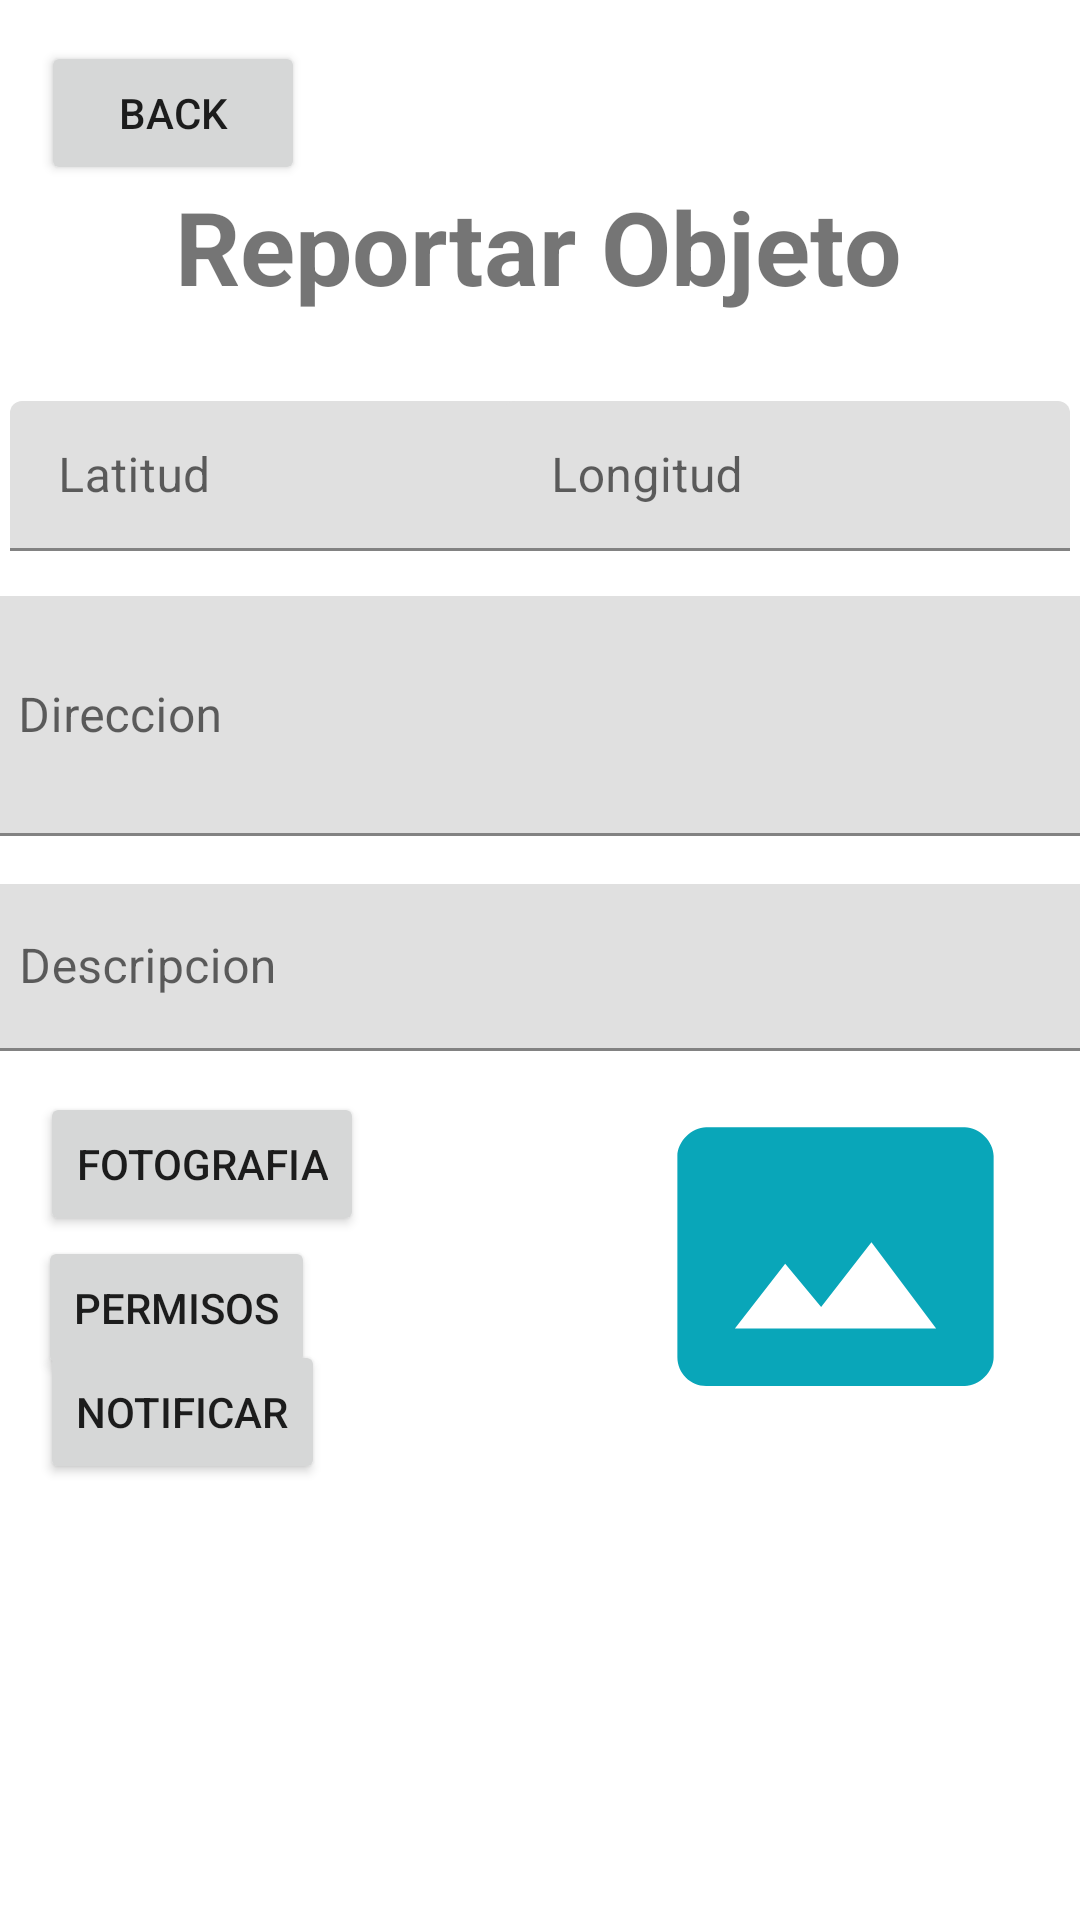

Named icons in this screenshot (1080 × 1920) and their centers, [x,y]:
photo size select actual: [835,1256]
